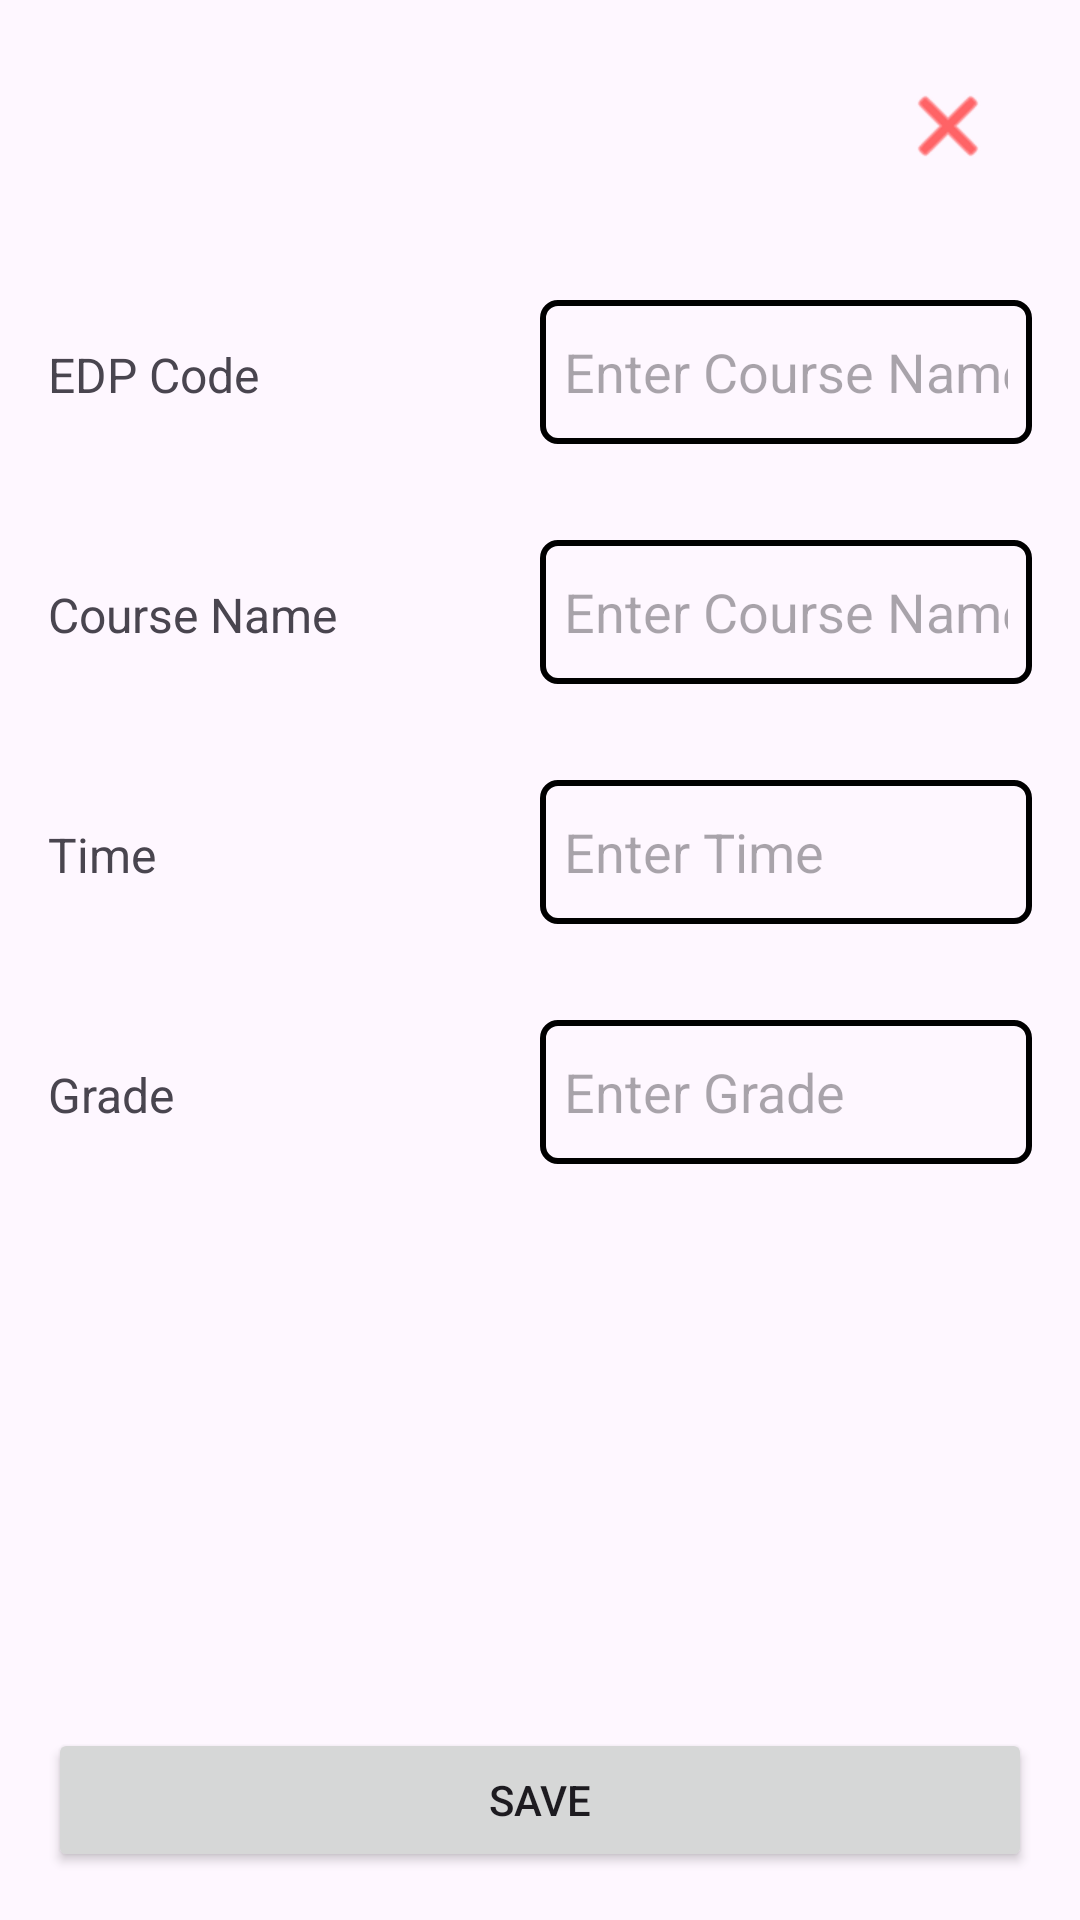

Point at icon controls on the screen. Image size 1080 × 1920, points as (x,y).
close clear cancel: (948,126)
